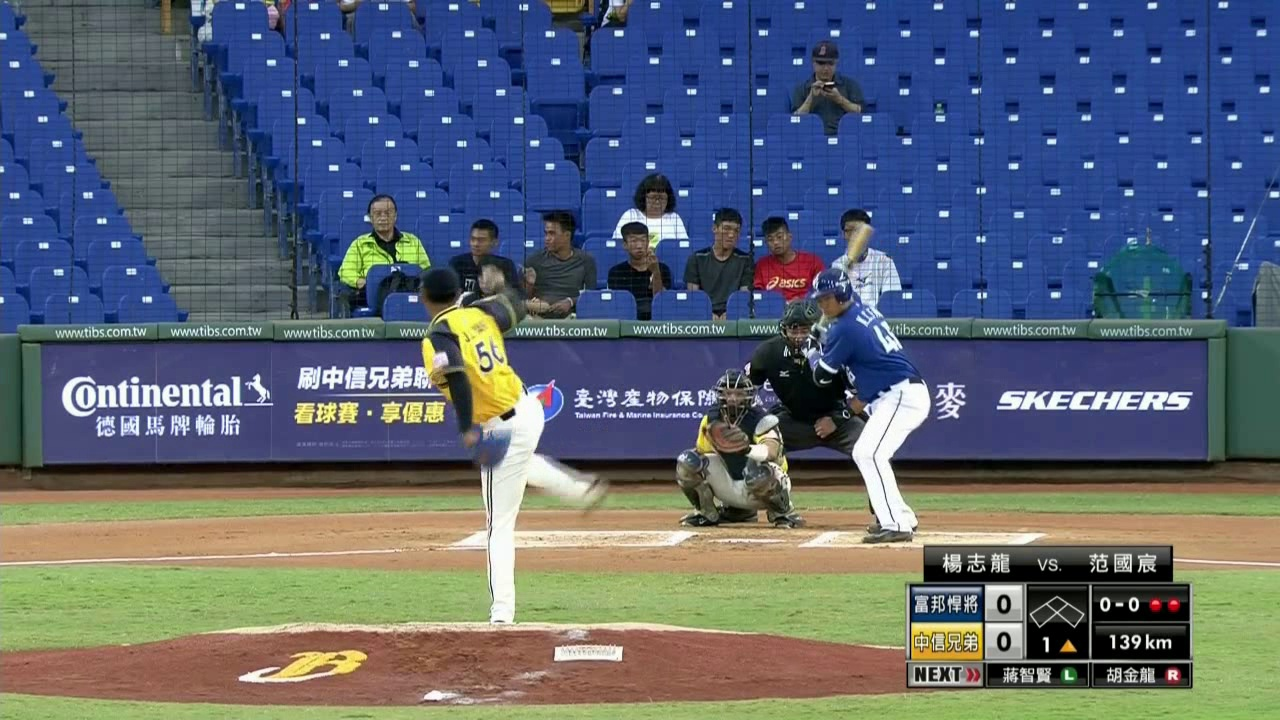base: (1028, 591, 1086, 628)
bat: (815, 223, 878, 328)
out: (1147, 596, 1181, 613)
score1: (986, 585, 1022, 619)
score2: (984, 622, 1022, 657)
session: (1038, 633, 1079, 654)
speed: (1102, 630, 1175, 650)
strikeball: (1098, 593, 1141, 614)
